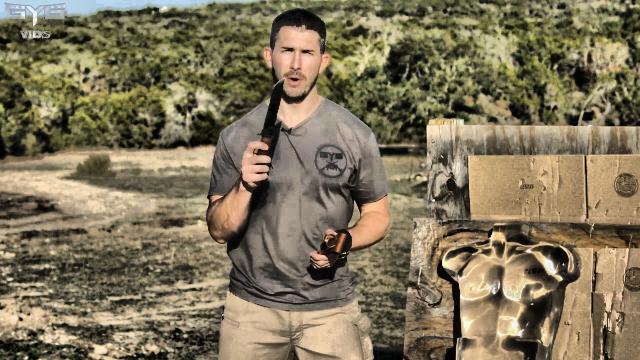knife: (237, 71, 291, 185)
